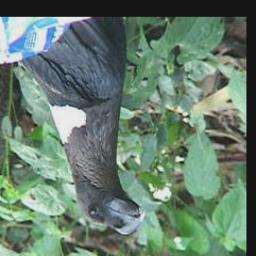Crow: (6, 19, 147, 234)
